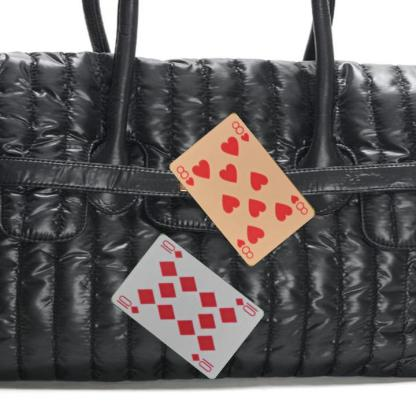10d: (113, 292, 140, 315), (232, 295, 257, 318)
8h: (288, 192, 310, 216), (174, 163, 196, 187)
